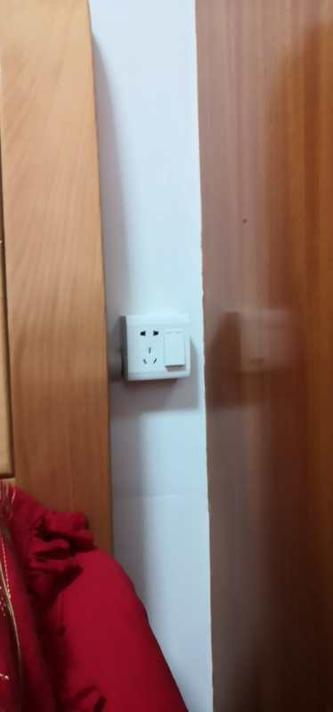switch: (160, 325, 179, 371)
